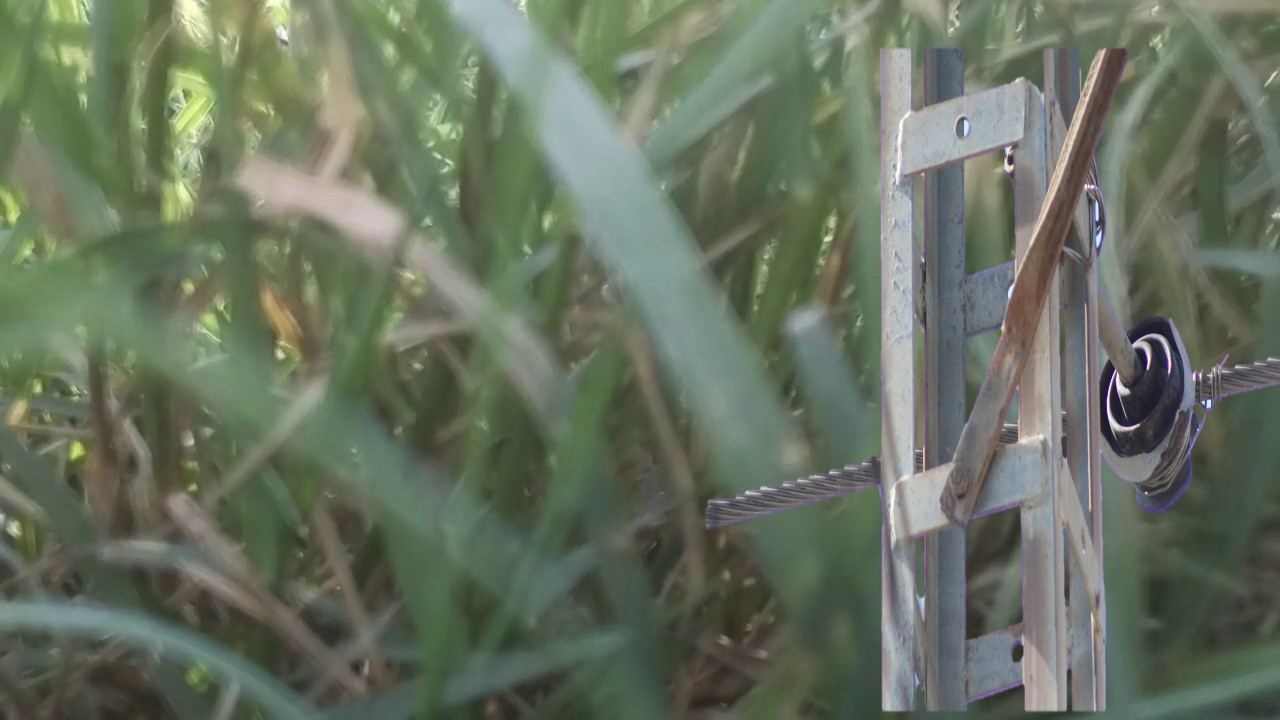defect_pin: (1095, 312, 1207, 517)
